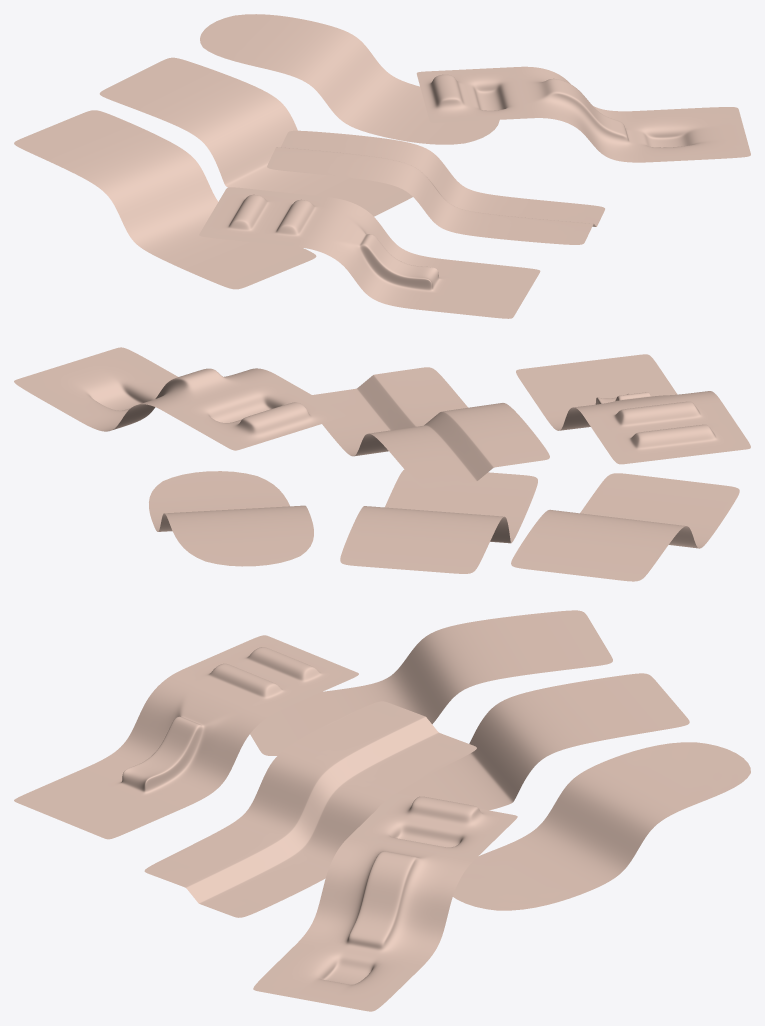
Rendered from 8. Matel sheets-CQEvMuSi.glb.
The picture shows the model from 3 angles, top to bottom: view 1: azimuth 30°, elevation 25°; view 2: azimuth 150°, elevation 25°; view 3: azimuth 270°, elevation 25°; orthographic projection. The views are drawn at different scales.
Parts seen in each view (by area): view 1: Plane.008, Plane.011, Plane.012, Plane.009, Plane.007, Plane.010; view 2: Plane.012, Plane.010, Plane.011, Plane.008, Plane.009, Plane.007; view 3: Plane.010, Plane.012, Plane.011, Plane.007, Plane.008, Plane.009.
Boxes of the visible parts, x1,y1,x2,y2 form: Plane.008: (14,110,316,289); Plane.011: (199,187,540,318); Plane.012: (416,66,750,162); Plane.009: (99,57,412,216); Plane.007: (200,14,499,144); Plane.010: (267,130,604,244); Plane.012: (14,347,345,450); Plane.010: (312,367,549,488); Plane.011: (516,354,750,464); Plane.008: (511,473,739,581); Plane.009: (340,469,537,573); Plane.007: (149,471,313,566); Plane.010: (144,701,476,917); Plane.012: (253,793,517,1011); Plane.011: (14,635,358,839); Plane.007: (453,742,750,910); Plane.008: (250,610,612,755); Plane.009: (377,673,689,810).
Bounding box in the file's own units: 1.19 × 0.1283 × 1.08.
